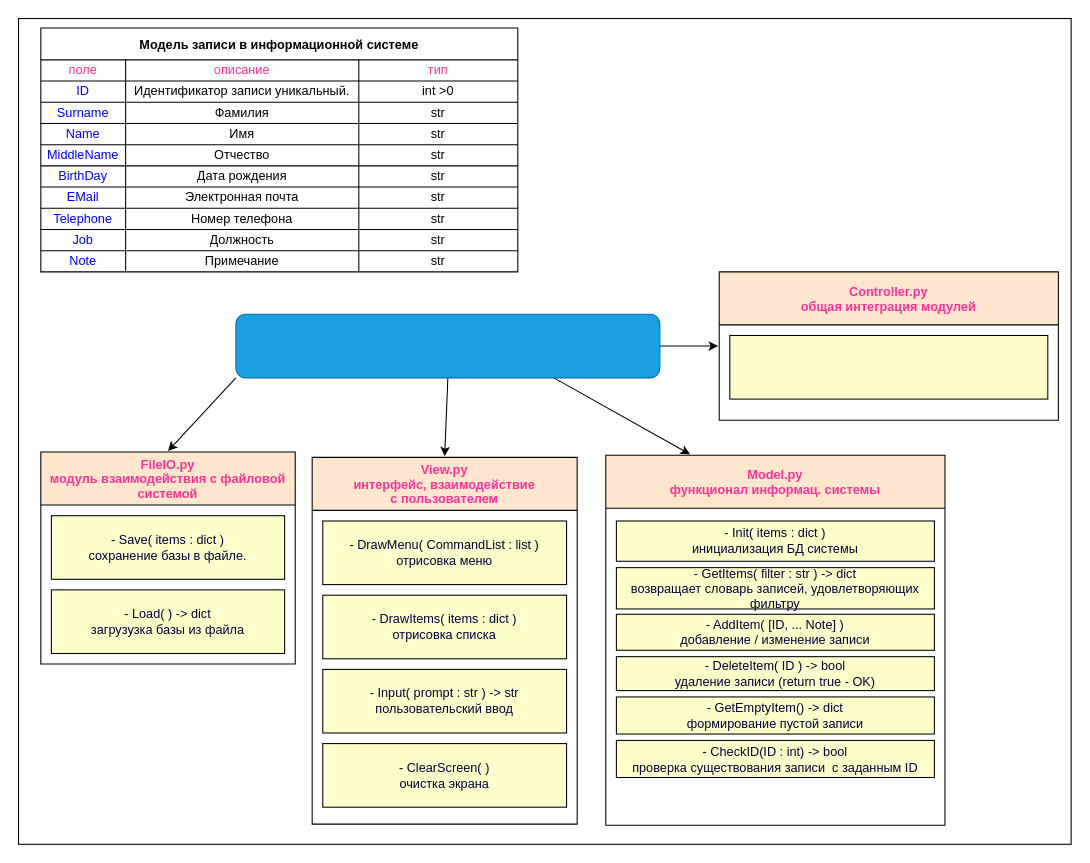
Some shapes in this 1090 by 863 pixel diagram are drawn without their labels. The centre of each missing label's shape, as x and y in pixels:
- Start() циклический метод основного процесса: [888,366]
Задача: [447,345]
